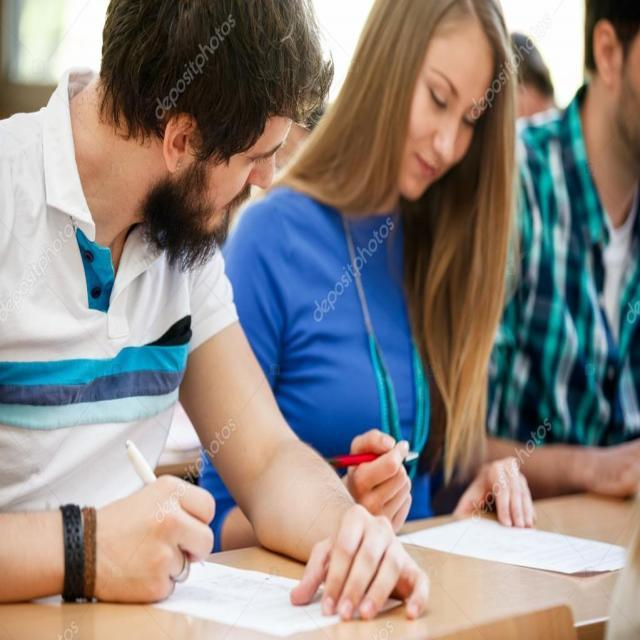cheating: (0, 0, 394, 630)
good: (287, 0, 526, 514)
